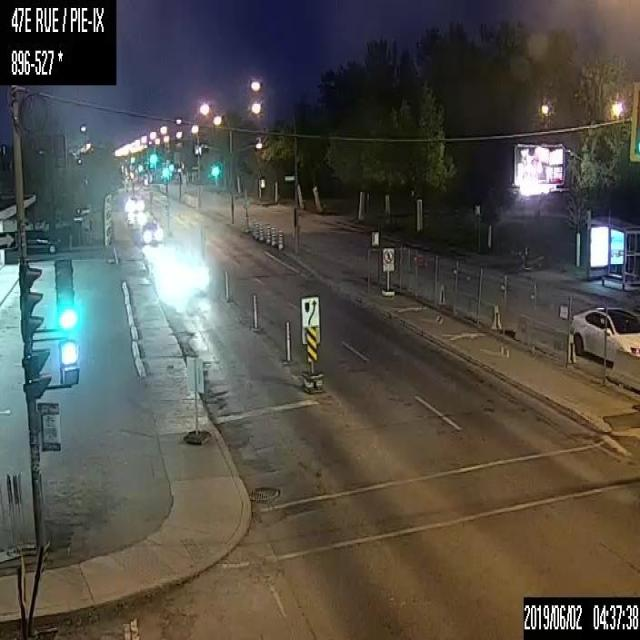construction: (285, 319, 290, 361), (252, 292, 256, 328), (270, 225, 276, 244), (258, 222, 264, 241), (225, 267, 228, 297), (254, 222, 259, 238), (278, 229, 282, 249), (250, 218, 255, 234), (266, 223, 270, 242)
vehicle: (568, 303, 639, 367), (25, 231, 58, 254), (142, 217, 162, 244), (126, 193, 141, 212)
